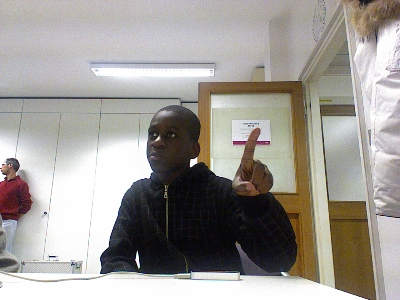食指: (229, 126, 274, 199)
